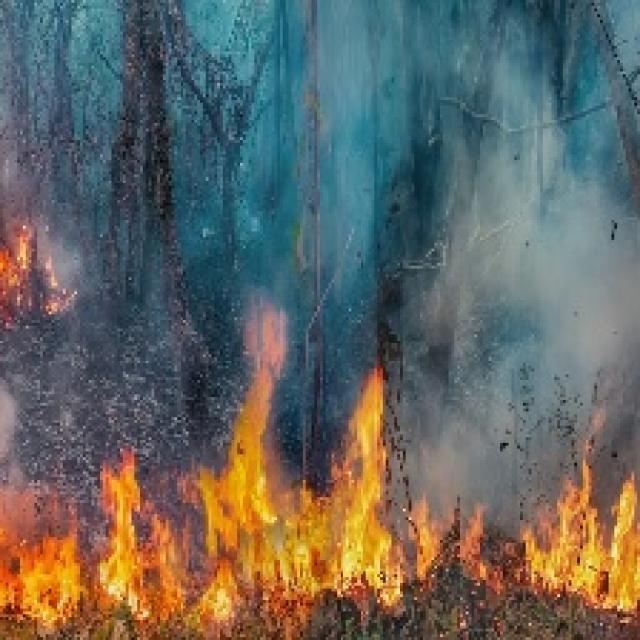Fire: (190, 372, 397, 618), (0, 446, 180, 620), (523, 474, 640, 606)
